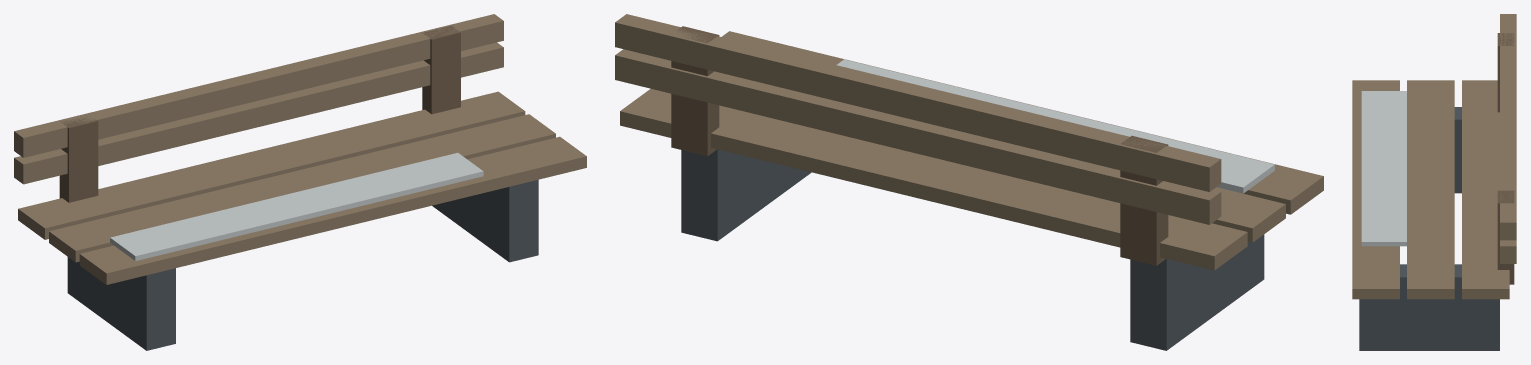
The model's file is bench.glb.
The picture shows the model from 3 angles, left to right: view 1: azimuth 30°, elevation 25°; view 2: azimuth 150°, elevation 25°; view 3: azimuth 270°, elevation 25°; orthographic projection. The views are drawn at different scales.
Visible parts, largest first — view 1: bench; view 2: bench; view 3: bench.
Boxes of the visible parts, x1,y1,x2,y2 form: bench: (14, 14, 586, 350); bench: (615, 14, 1323, 350); bench: (1352, 14, 1516, 350).
Bounding box in the file's own units: 2.88 × 0.95 × 0.96.
